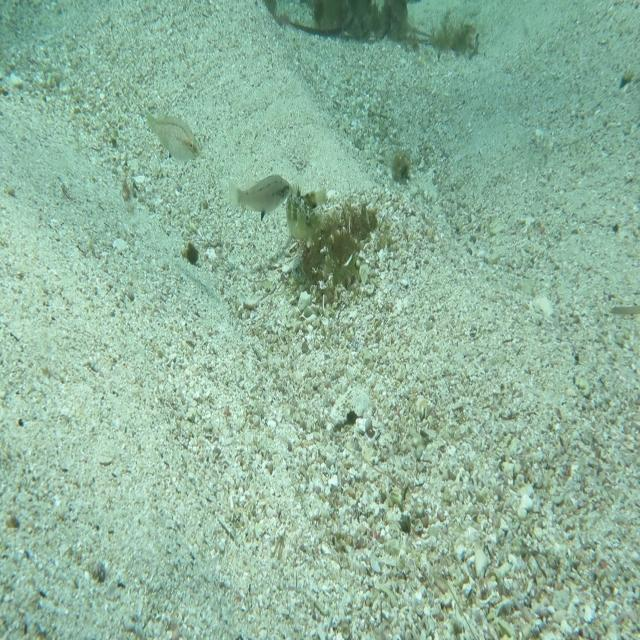BEND_OPP: (283, 176, 331, 246)
female: (226, 171, 295, 225)
nest: (283, 195, 387, 308)
other_fish: (138, 98, 205, 170)
